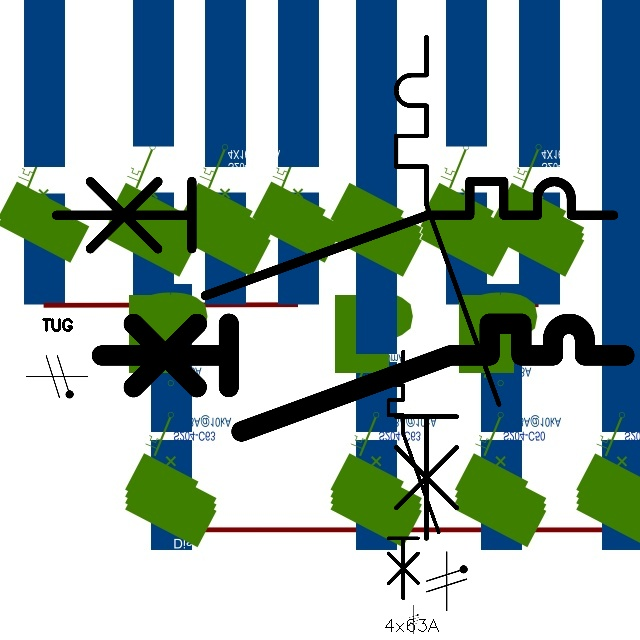interruptor_termomagnetico: (42, 167, 628, 310), (88, 310, 638, 444), (383, 24, 512, 551), (382, 345, 445, 604)
